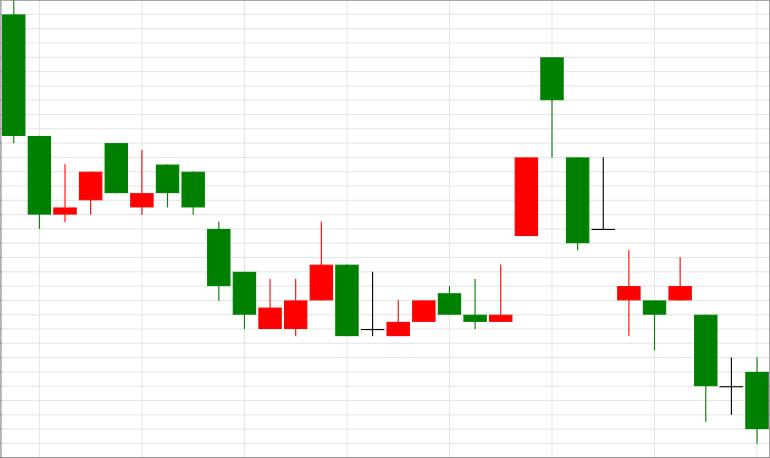hanging_man_fall: (386, 58, 564, 336)
